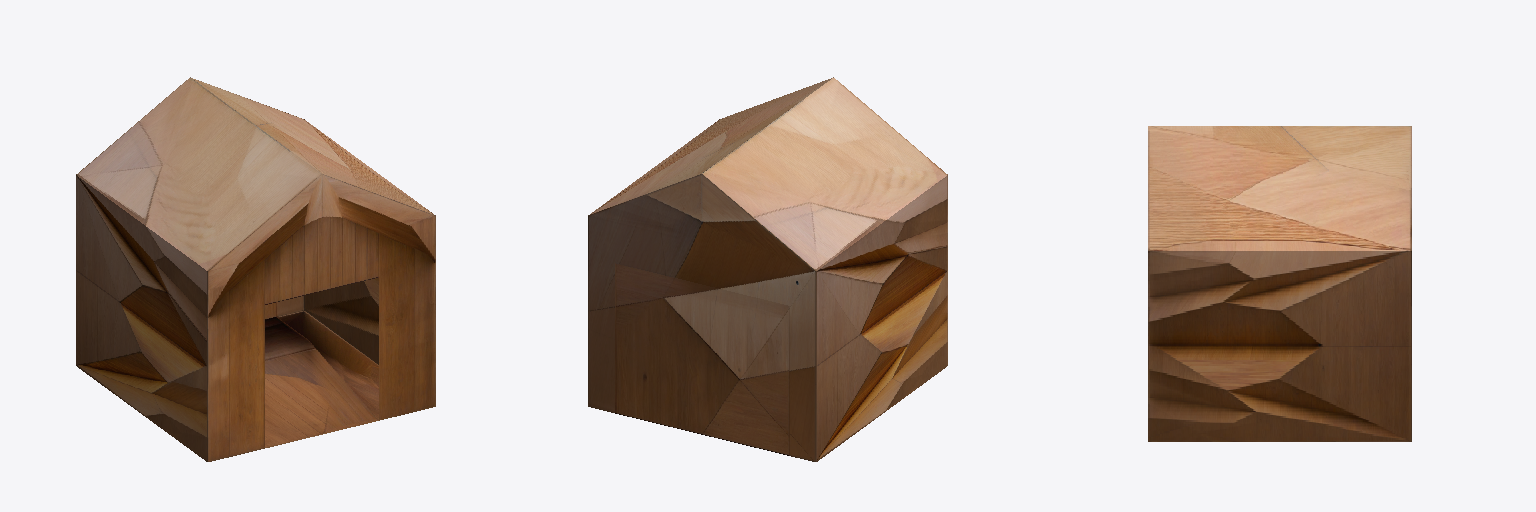
3 renders of one model, left to right at view 1: azimuth 30°, elevation 25°; view 2: azimuth 150°, elevation 25°; view 3: azimuth 270°, elevation 25°, orthographic.
Visible parts, largest first — view 1: model; view 2: model; view 3: model.
Boxes of the visible parts, x1,y1,x2,y2 form: model: [76, 77, 435, 461]; model: [588, 77, 947, 461]; model: [1148, 126, 1411, 441].
Bounding box in the file's own units: 1.83 × 2 × 1.83.
Materials: 1 (1 with a texture image).